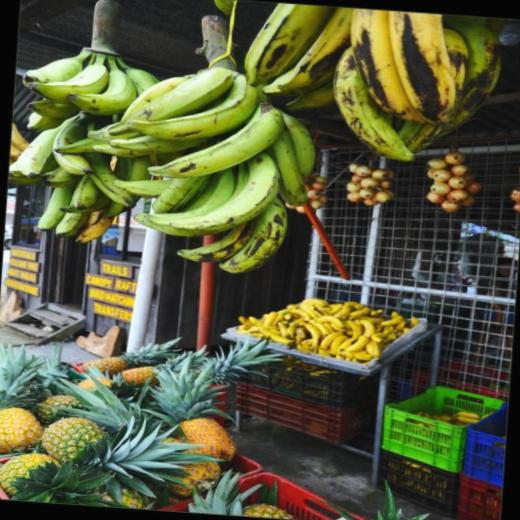Banana: (4, 0, 504, 293), (230, 294, 431, 407), (145, 86, 287, 186), (386, 404, 492, 498), (466, 431, 505, 519)
